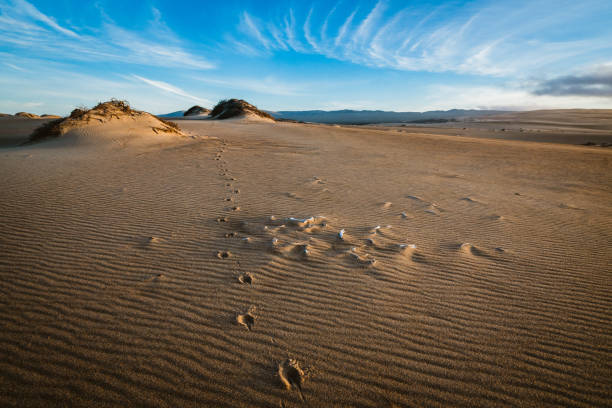animal_footprint: (274, 358, 306, 391), (236, 304, 258, 330), (213, 246, 235, 268), (234, 270, 258, 288), (220, 228, 239, 244), (229, 199, 240, 216), (211, 214, 230, 223)
